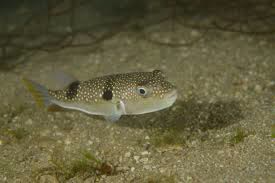hugu: (45, 7, 180, 142)
